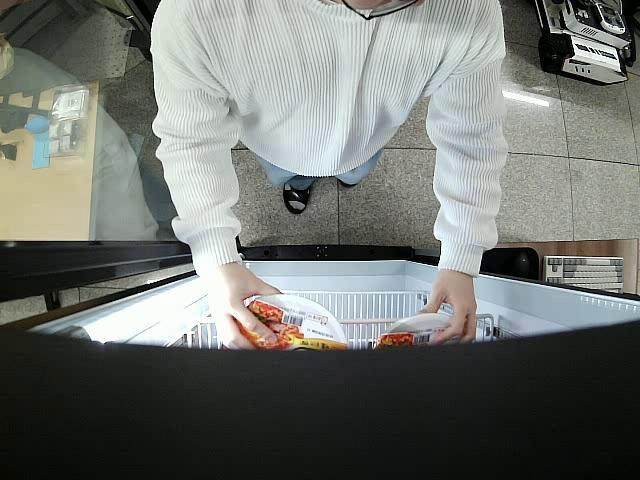10_wangTtukkeong: (229, 294, 350, 355), (374, 313, 466, 347)
